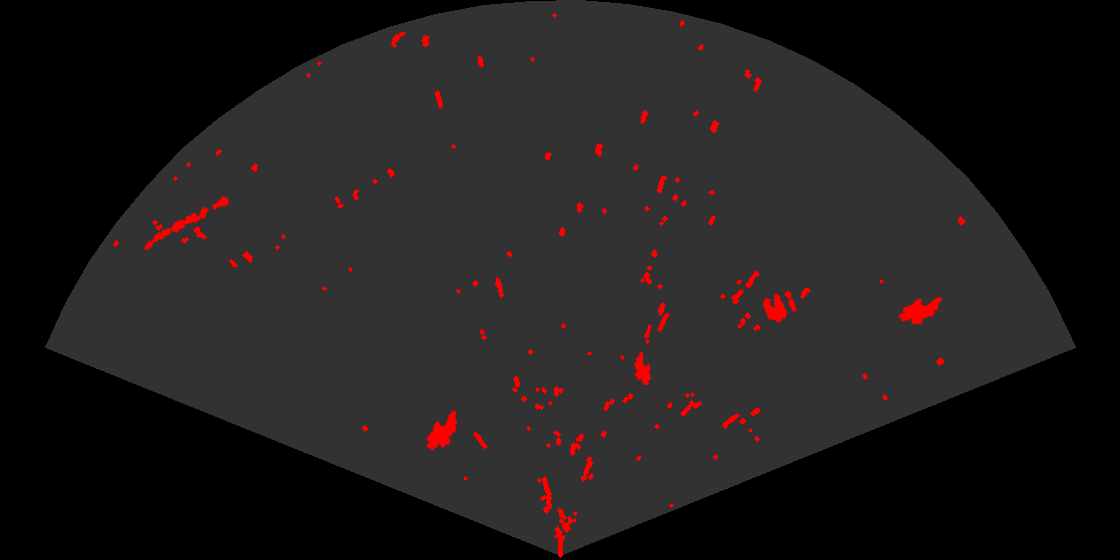AUV: (425, 409, 459, 452), (897, 295, 944, 326), (633, 350, 653, 387)
ball: (761, 289, 798, 324)
chain: (142, 194, 231, 251)
